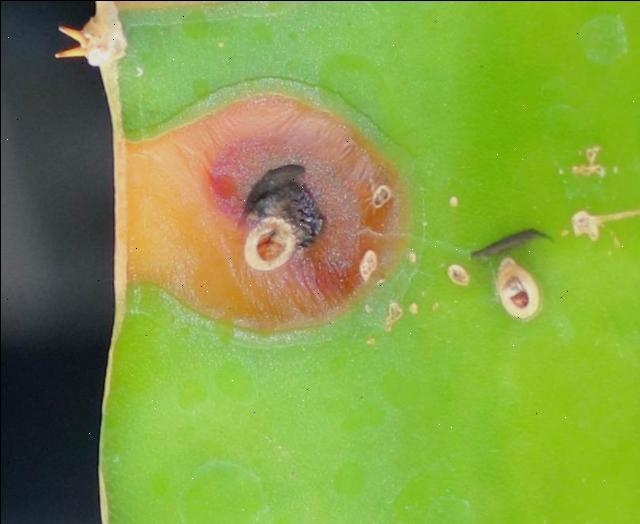stemcanker: (109, 76, 416, 345)
